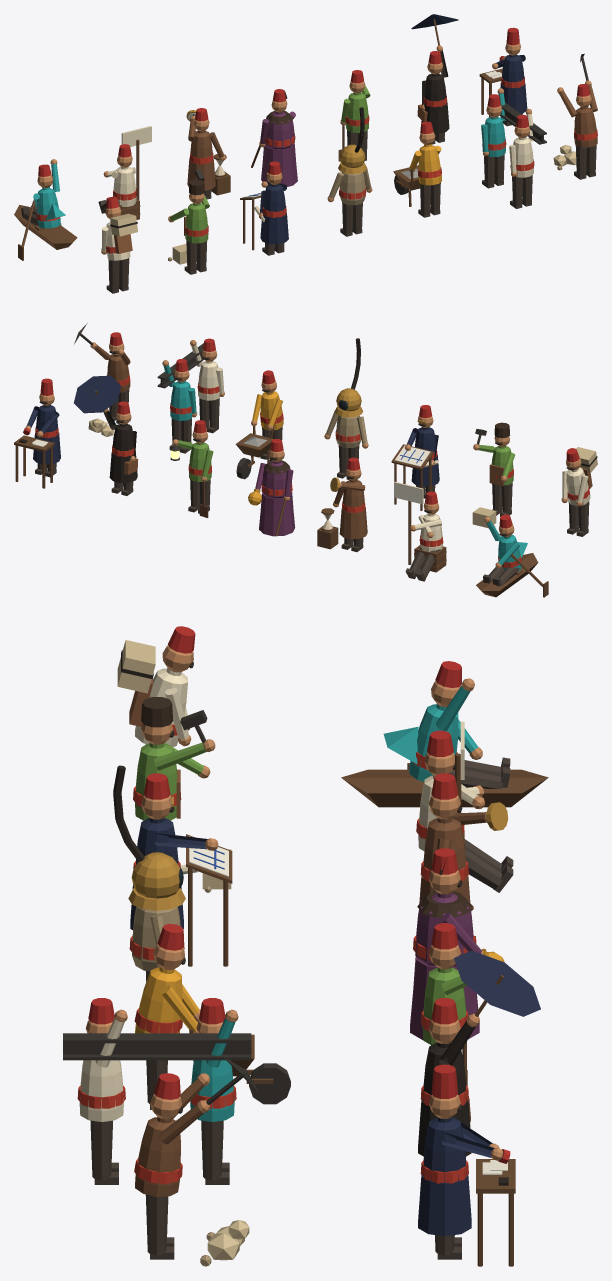
Rendered from halic_karakterler.glb.
The picture shows the model from 3 angles, top to bottom: view 1: azimuth 30°, elevation 25°; view 2: azimuth 150°, elevation 25°; view 3: azimuth 270°, elevation 25°; orthographic projection. The views are drawn at different scales.
Parts seen in each view (by area): view 1: kaftan, kayik, etek, govde.007, govde.001, govde.004, govde.011, govde.009, govde.003, govde.008, govde.012, govde.005 (+13 smaller); view 2: semsiye, kaftan, masa, etek.001, kayik, govde.006, govde.005, el_arabasi, govde.003, govde.011, plan_masasi, govde.012 (+19 smaller); view 3: celik_kiris, kayik, semsiye, etek.003, govde.007, govde.006, govde.014, masa, migfer, govde.004, yuk_tas, govde.005 (+21 smaller).
Part boxes in pixels (x1=…): kaftan: x1=261, y1=143, x2=297, y2=186; kayik: x1=14, y1=205, x2=77, y2=249; etek: x1=260, y1=212, x2=288, y2=244; govde.007: x1=574, y1=106, x2=597, y2=147; govde.001: x1=185, y1=203, x2=208, y2=243; govde.004: x1=418, y1=144, x2=441, y2=185; govde.011: x1=265, y1=111, x2=294, y2=149; govde.009: x1=113, y1=166, x2=136, y2=206; govde.003: x1=339, y1=172, x2=365, y2=205; govde.008: x1=37, y1=187, x2=60, y2=228; govde.012: x1=345, y1=92, x2=368, y2=132; govde.005: x1=482, y1=116, x2=505, y2=157; semsiye: x1=74, y1=375, x2=120, y2=413; kaftan: x1=259, y1=492, x2=295, y2=536; masa: x1=14, y1=435, x2=54, y2=488; etek.001: x1=339, y1=507, x2=367, y2=539; kayik: x1=476, y1=553, x2=538, y2=597; govde.006: x1=198, y1=361, x2=219, y2=400; govde.005: x1=170, y1=381, x2=192, y2=420; el_arabasi: x1=235, y1=424, x2=274, y2=467; govde.003: x1=335, y1=415, x2=361, y2=448; govde.011: x1=261, y1=461, x2=291, y2=498; plan_masasi: x1=391, y1=444, x2=433, y2=510; govde.012: x1=189, y1=442, x2=211, y2=482; celik_kiris: x1=63, y1=1033, x2=251, y2=1060; kayik: x1=341, y1=769, x2=548, y2=807; semsiye: x1=454, y1=950, x2=540, y2=1016; etek.003: x1=418, y1=1174, x2=471, y2=1236; govde.007: x1=135, y1=1117, x2=180, y2=1196; govde.006: x1=79, y1=1060, x2=123, y2=1121; govde.014: x1=423, y1=1117, x2=466, y2=1182; masa: x1=476, y1=1159, x2=515, y2=1266; migfer: x1=131, y1=852, x2=180, y2=898; govde.004: x1=135, y1=967, x2=182, y2=1033; yuk_tas: x1=117, y1=640, x2=155, y2=693; govde.005: x1=190, y1=1060, x2=234, y2=1121.
Bounding box in the file's own units: 107 × 27.76 × 43.9.
